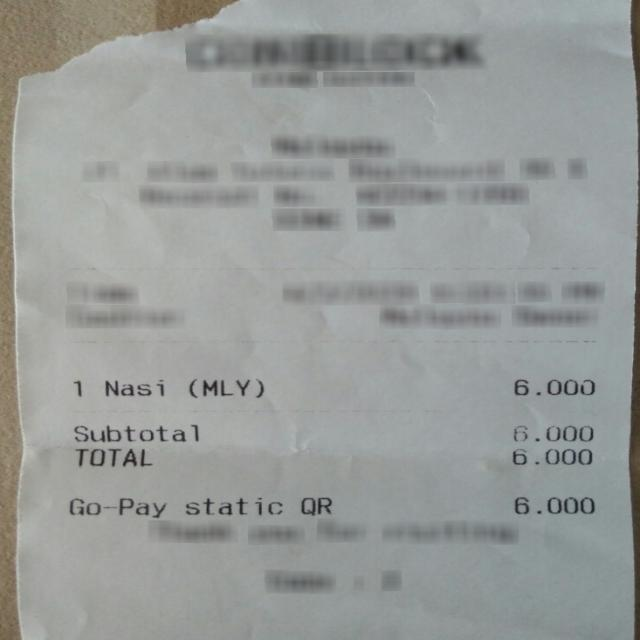text: (72, 424, 197, 442), (68, 497, 164, 517), (183, 496, 280, 515), (512, 495, 594, 514), (73, 447, 150, 466), (510, 447, 591, 464), (186, 378, 261, 396), (513, 378, 593, 394), (512, 425, 591, 441), (103, 378, 166, 396), (300, 496, 330, 515), (71, 378, 84, 398)
